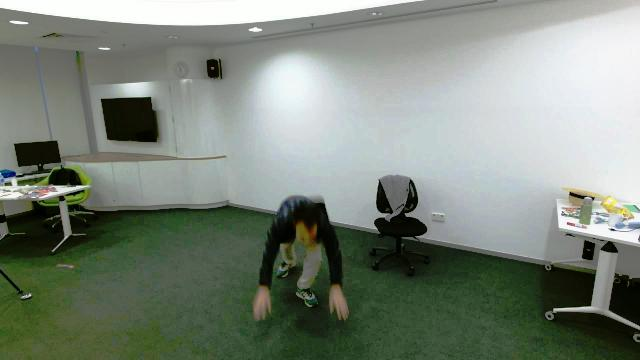jatuh: (246, 190, 354, 332)
